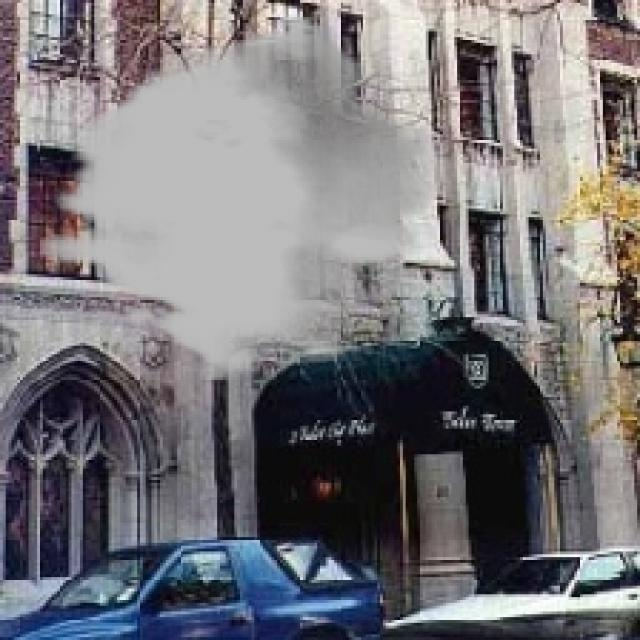smoke: (40, 14, 440, 383)
